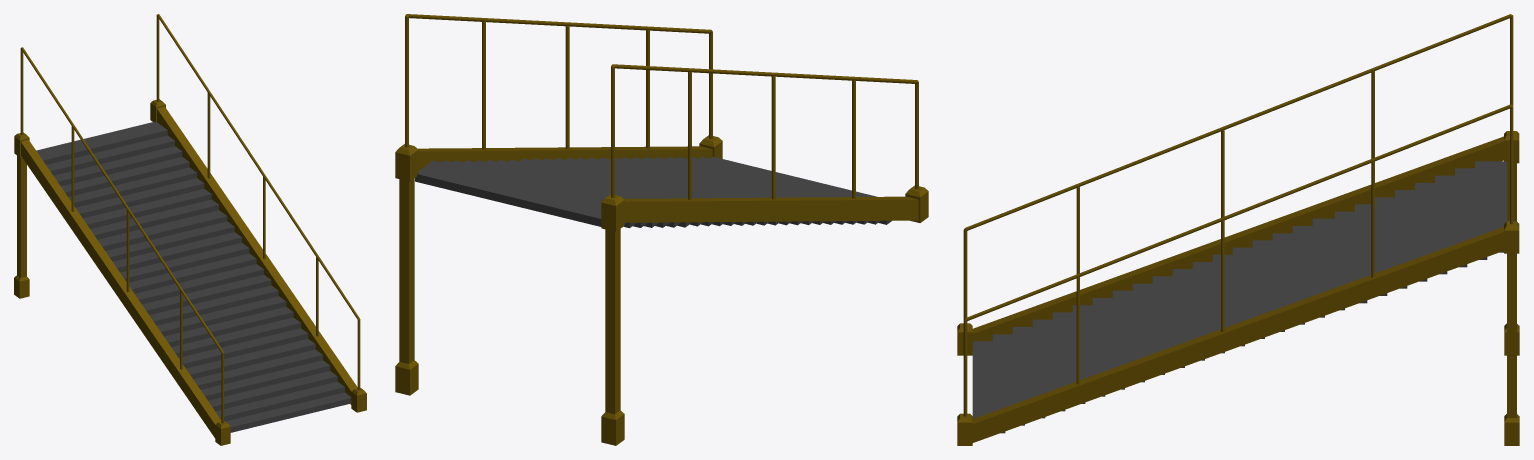
File: staircase.fbx
3 views of the same model, side by side, from view 1: azimuth 30°, elevation 25°; view 2: azimuth 150°, elevation 25°; view 3: azimuth 270°, elevation 25° (orthographic). The views are drawn at different scales.
Parts seen in each view (by area): view 1: stairs, handle_R, handle_L; view 2: stairs, handle_R, handle_L; view 3: stairs, handle_L, handle_R.
Boxes of the visible parts, x1=… form: stairs: x1=36, y1=121, x2=351, y2=432; handle_R: x1=14, y1=47, x2=230, y2=445; handle_L: x1=150, y1=14, x2=366, y2=412; stairs: x1=415, y1=156, x2=891, y2=228; handle_R: x1=601, y1=64, x2=928, y2=445; handle_L: x1=395, y1=14, x2=722, y2=395; stairs: x1=972, y1=161, x2=1507, y2=433; handle_L: x1=957, y1=104, x2=1519, y2=445; handle_R: x1=957, y1=14, x2=1519, y2=355.
Bounding box in the file's own units: 574 × 933 × 1407.
